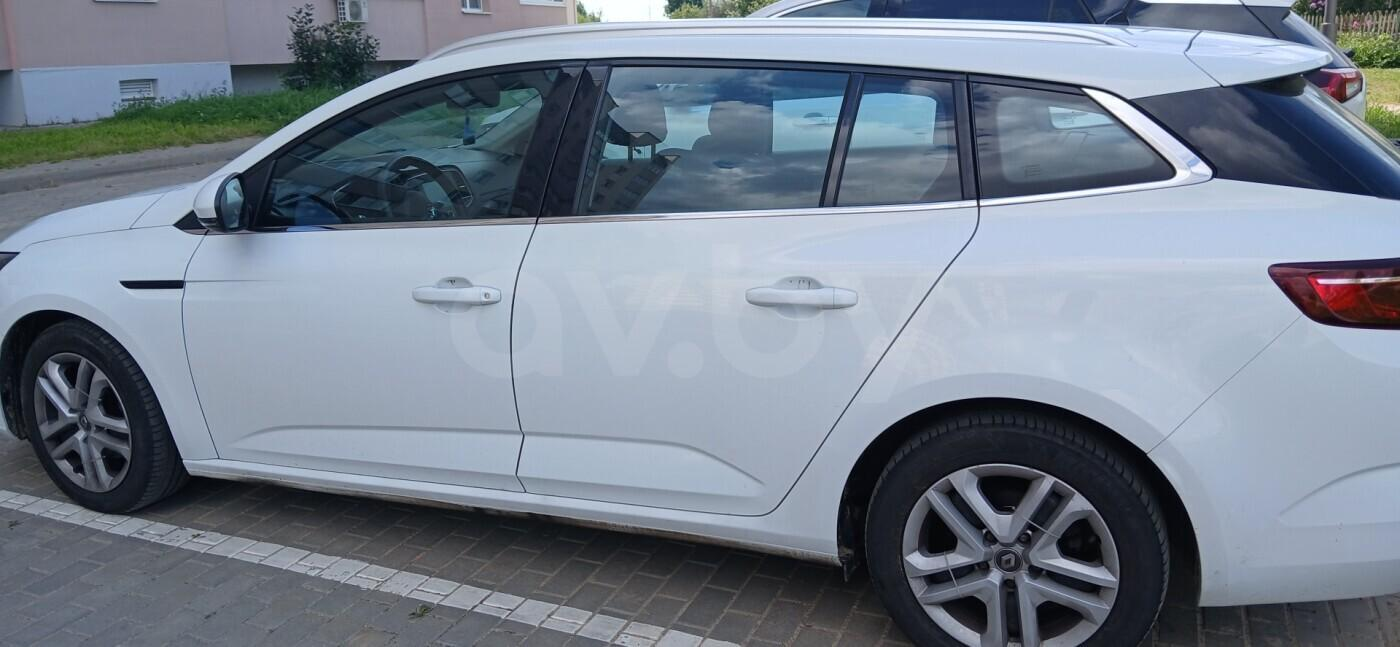Megane_2016-2020: (0, 22, 1400, 647)
